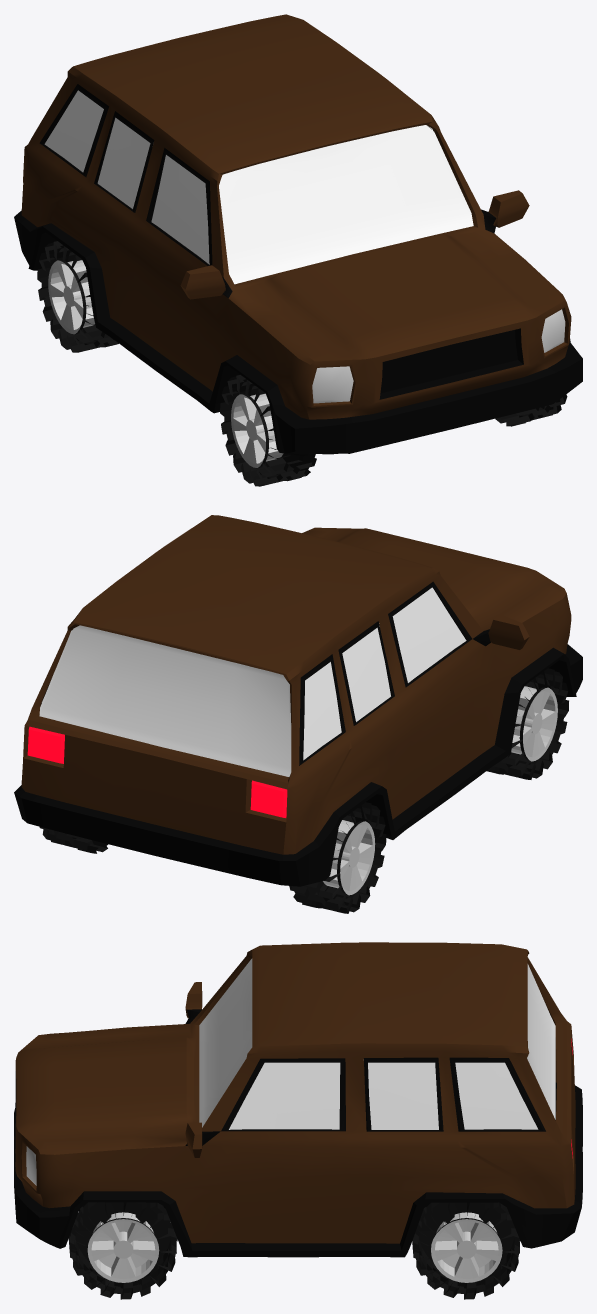
The model's file is game_jam_car (1).fbx.
The picture shows the model from 3 angles, top to bottom: view 1: azimuth 30°, elevation 25°; view 2: azimuth 150°, elevation 25°; view 3: azimuth 270°, elevation 25°; orthographic projection. The views are drawn at different scales.
Parts seen in each view (by area): view 1: Cube, Cube.002, Cube.003, Cube.001, Cube.005; view 2: Cube, Cube.002, Cube.001, Cube.003, Cube.004; view 3: Cube, Cube.002, Cube.005, Cube.004.
Boxes of the visible parts, bbox=[...] form: Cube: bbox=[14, 14, 582, 456]; Cube.002: bbox=[44, 90, 473, 284]; Cube.003: bbox=[220, 375, 316, 486]; Cube.001: bbox=[37, 241, 118, 352]; Cube.005: bbox=[495, 394, 567, 426]; Cube: bbox=[14, 515, 582, 886]; Cube.002: bbox=[39, 587, 466, 776]; Cube.001: bbox=[289, 802, 386, 913]; Cube.003: bbox=[486, 668, 568, 779]; Cube.004: bbox=[39, 827, 107, 853]; Cube: bbox=[14, 942, 582, 1257]; Cube.002: bbox=[199, 958, 555, 1129]; Cube.005: bbox=[68, 1202, 177, 1299]; Cube.004: bbox=[412, 1202, 520, 1299].
Size of the model in its own units: 1043 by 751 by 1591.
